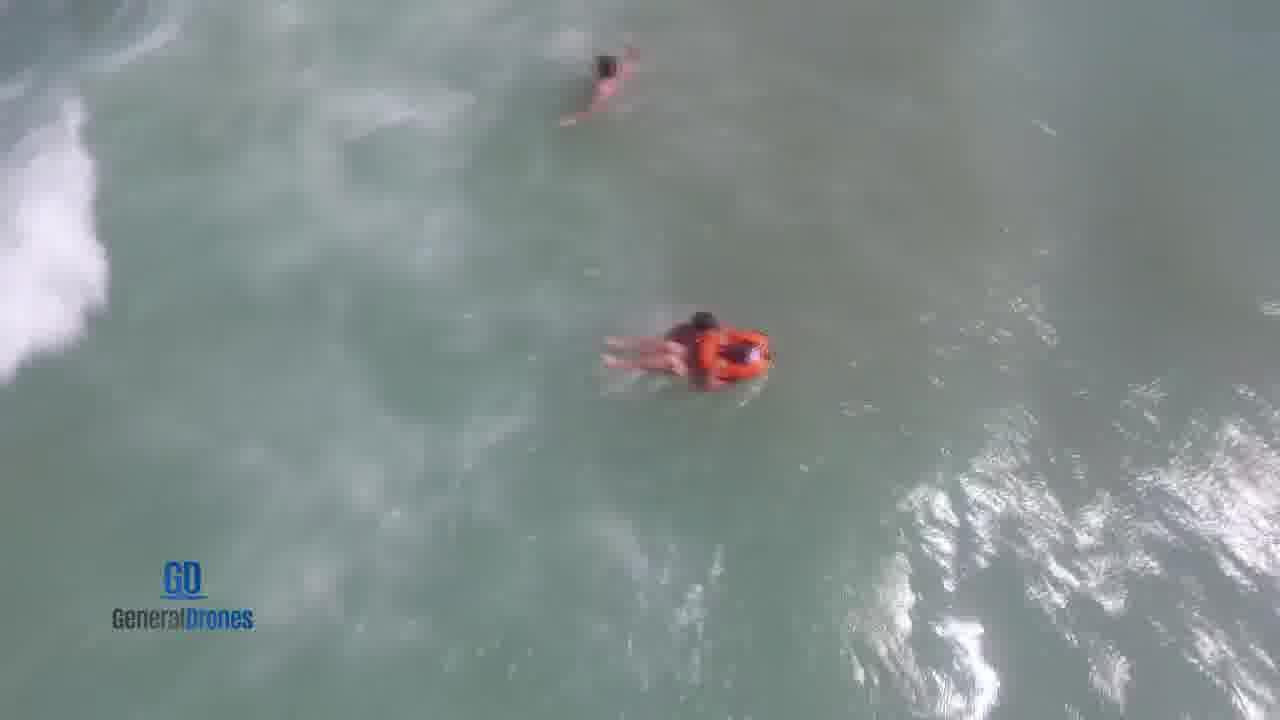human: (593, 332, 769, 389), (558, 39, 643, 124), (661, 310, 745, 336)
